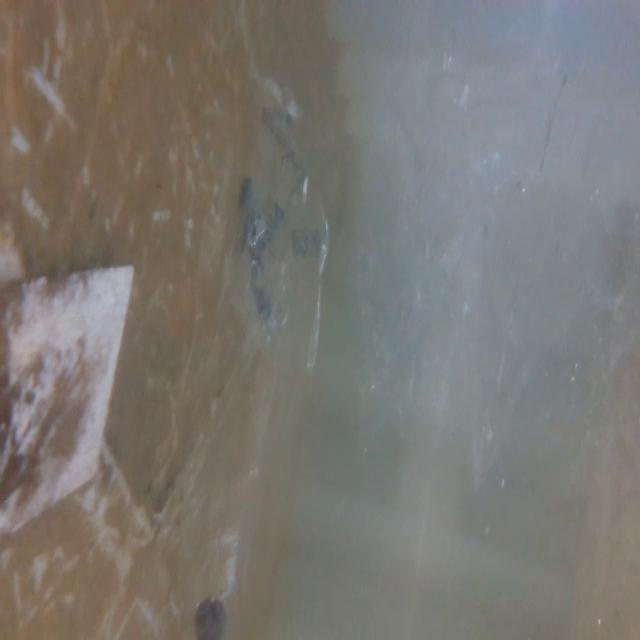plastic bags: (224, 70, 334, 394)
